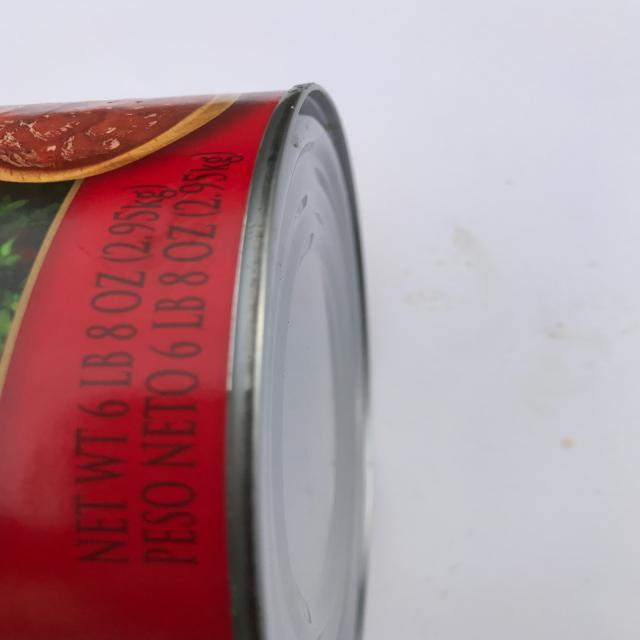metal: (0, 81, 371, 640)
